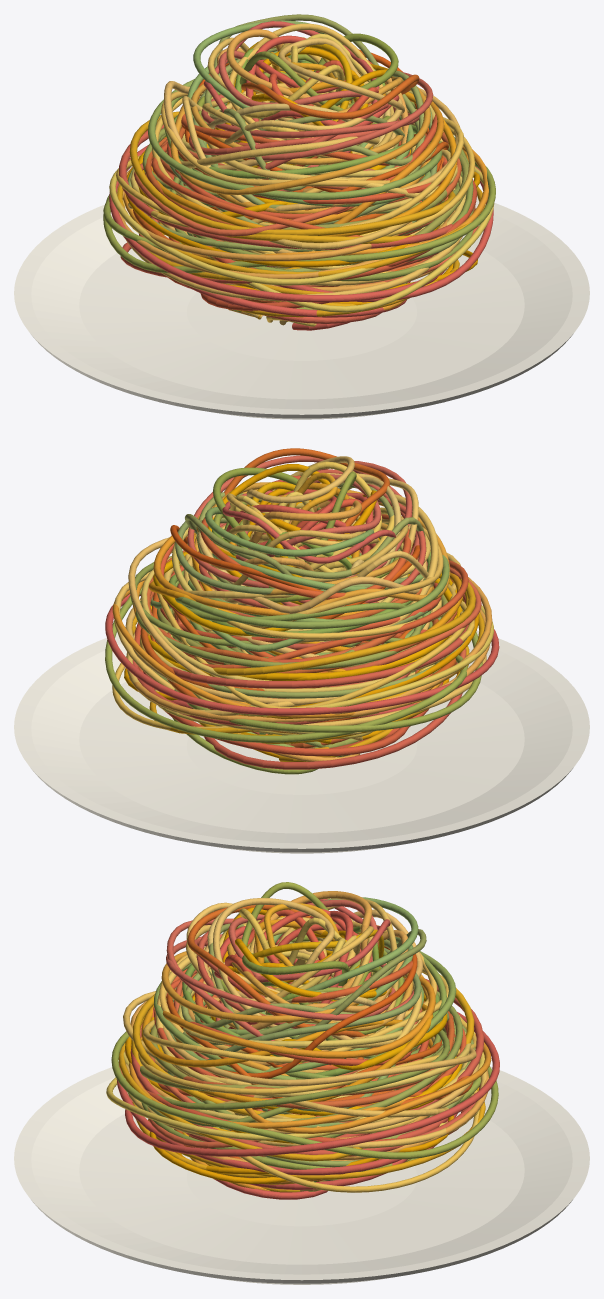
The model's file is spaghetti_bowl.glb.
3 renders of one model, top to bottom at view 1: azimuth 30°, elevation 25°; view 2: azimuth 150°, elevation 25°; view 3: azimuth 270°, elevation 25°, orthographic.
Parts seen in each view (by area): view 1: plate, noodle_076, noodle_061, noodle_070, noodle_069, noodle_074, noodle_072, noodle_041, noodle_071, noodle_028, noodle_050, noodle_077 (+53 smaller); view 2: plate, noodle_074, noodle_072, noodle_076, noodle_069, noodle_061, noodle_067, noodle_050, noodle_071, noodle_063, noodle_022, noodle_064 (+52 smaller); view 3: plate, noodle_076, noodle_074, noodle_067, noodle_073, noodle_063, noodle_077, noodle_066, noodle_071, noodle_028, noodle_049, noodle_053 (+53 smaller).
Part boxes in pixels (x1=…): plate: x1=14, y1=196, x2=589, y2=419; noodle_076: x1=109, y1=145, x2=493, y2=330; noodle_061: x1=129, y1=111, x2=455, y2=321; noodle_070: x1=109, y1=155, x2=494, y2=326; noodle_069: x1=116, y1=167, x2=455, y2=316; noodle_074: x1=103, y1=161, x2=495, y2=312; noodle_072: x1=119, y1=125, x2=475, y2=323; noodle_041: x1=170, y1=69, x2=431, y2=241; noodle_071: x1=122, y1=199, x2=462, y2=319; noodle_028: x1=201, y1=71, x2=433, y2=170; noodle_050: x1=148, y1=71, x2=442, y2=241; noodle_077: x1=117, y1=185, x2=485, y2=319; plate: x1=14, y1=630, x2=589, y2=853; noodle_074: x1=105, y1=586, x2=482, y2=774; noodle_072: x1=133, y1=578, x2=474, y2=769; noodle_076: x1=105, y1=594, x2=499, y2=718; noodle_069: x1=127, y1=577, x2=492, y2=761; noodle_061: x1=198, y1=551, x2=475, y2=743; noodle_067: x1=112, y1=550, x2=474, y2=729; noodle_050: x1=175, y1=543, x2=449, y2=747; noodle_071: x1=114, y1=548, x2=486, y2=741; noodle_063: x1=125, y1=536, x2=447, y2=705; noodle_022: x1=205, y1=507, x2=393, y2=734; noodle_064: x1=134, y1=622, x2=428, y2=756; plate: x1=14, y1=1066, x2=589, y2=1284; noodle_076: x1=116, y1=1012, x2=499, y2=1199; noodle_074: x1=111, y1=1031, x2=498, y2=1171; noodle_067: x1=138, y1=1017, x2=479, y2=1192; noodle_073: x1=129, y1=1034, x2=491, y2=1190; noodle_063: x1=125, y1=999, x2=479, y2=1134; noodle_077: x1=118, y1=1043, x2=485, y2=1179; noodle_066: x1=141, y1=1029, x2=449, y2=1149; noodle_071: x1=123, y1=991, x2=487, y2=1191; noodle_028: x1=166, y1=918, x2=395, y2=1111; noodle_049: x1=141, y1=998, x2=433, y2=1181; noodle_053: x1=162, y1=976, x2=435, y2=1090.
Size of the model in its own units: 0.3 by 0.1693 by 0.3.
